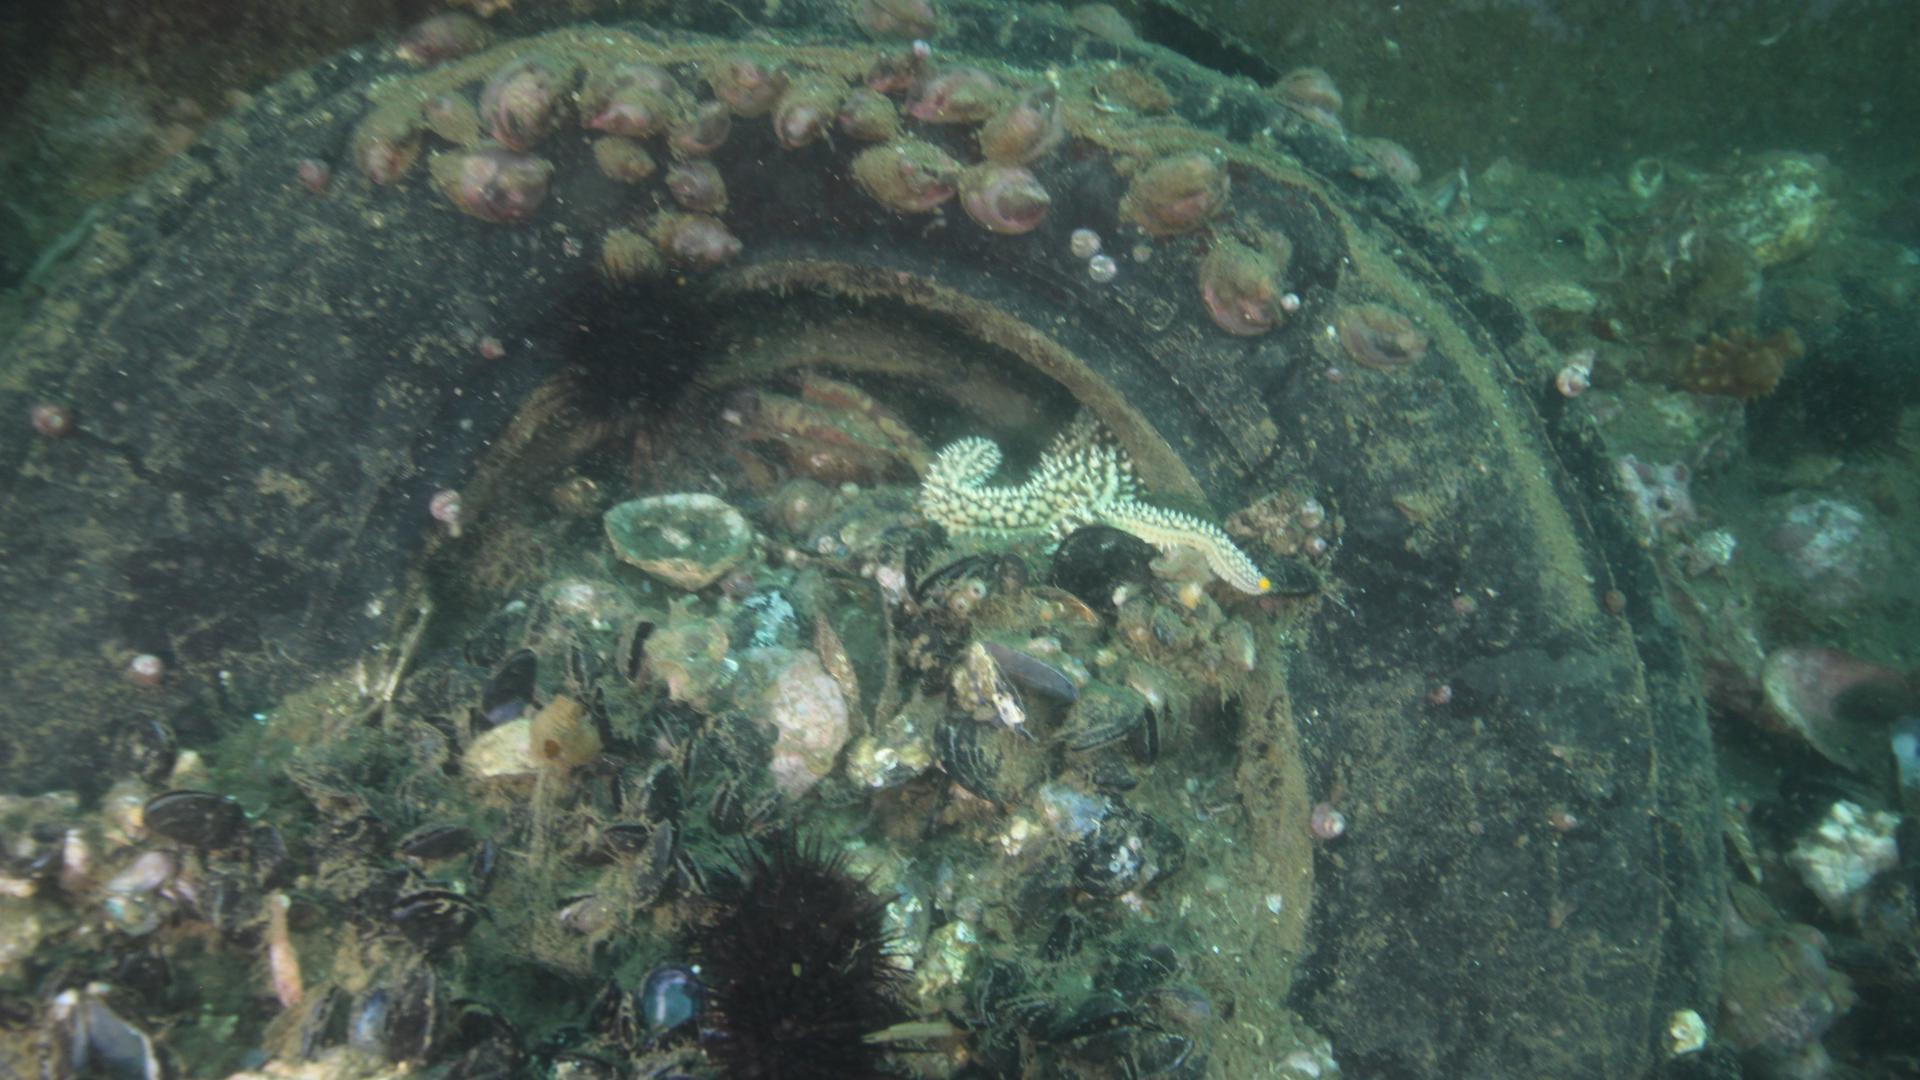tire: (3, 0, 1727, 1080)
